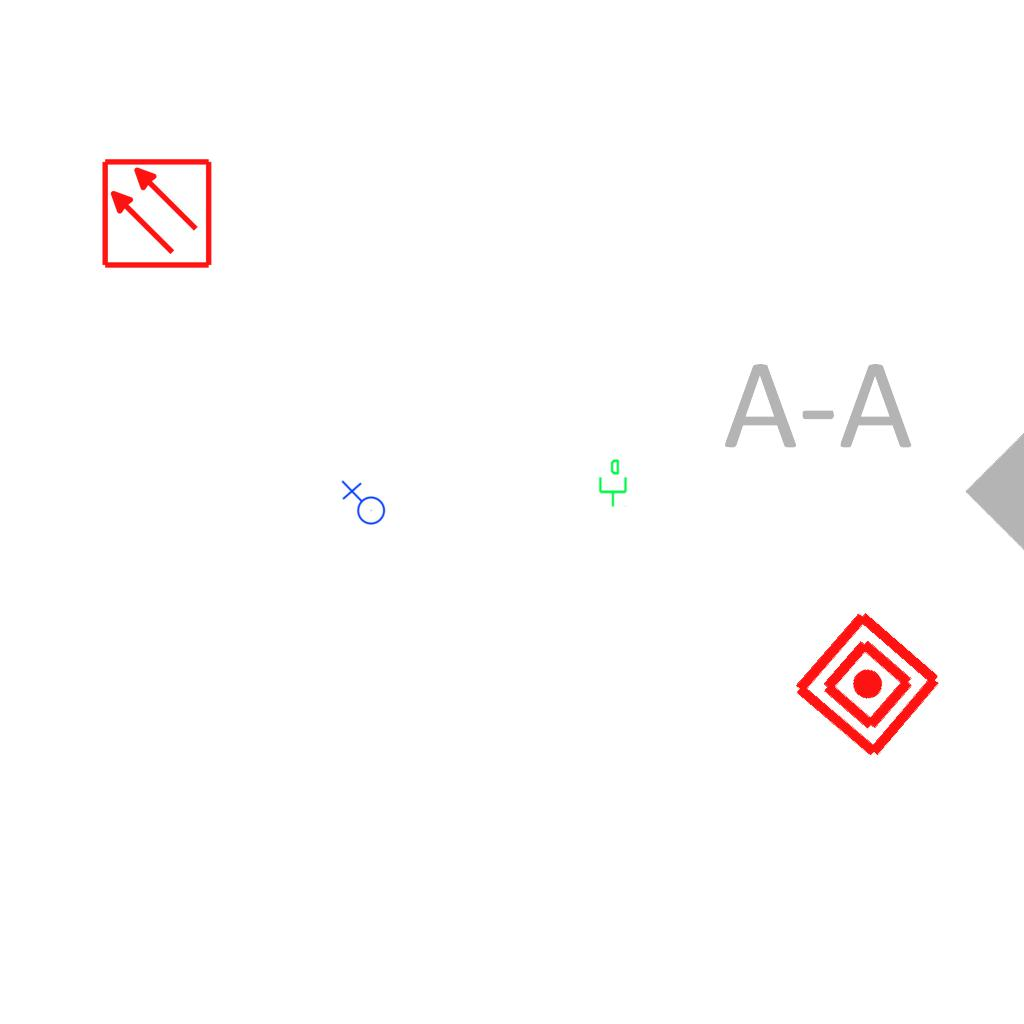Datenanschluss_einfach: (595, 458, 629, 508)
Elektroanschluss_allgemein_230V_Geraeteanschlussdose_230V: (339, 480, 386, 529)
NAM-Nichtautomatischer_Melder: (787, 604, 948, 765)
RMO_Rauchmelder_optischer: (100, 157, 213, 270)
